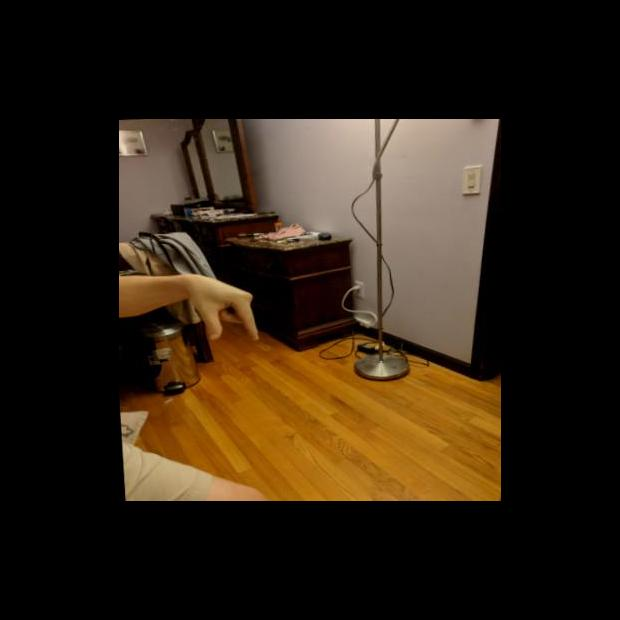P: (186, 267, 263, 347)
